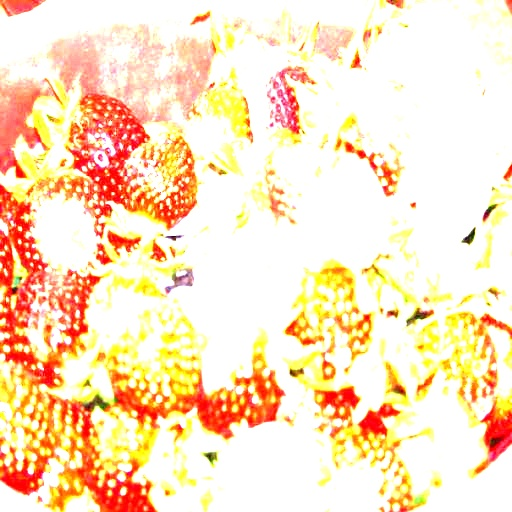Gray Mold: (265, 141, 387, 272), (327, 70, 431, 204), (215, 427, 364, 511), (12, 169, 108, 286), (414, 113, 495, 248), (397, 6, 490, 117), (197, 321, 283, 437), (245, 47, 339, 143), (370, 31, 453, 135), (192, 245, 246, 338)
